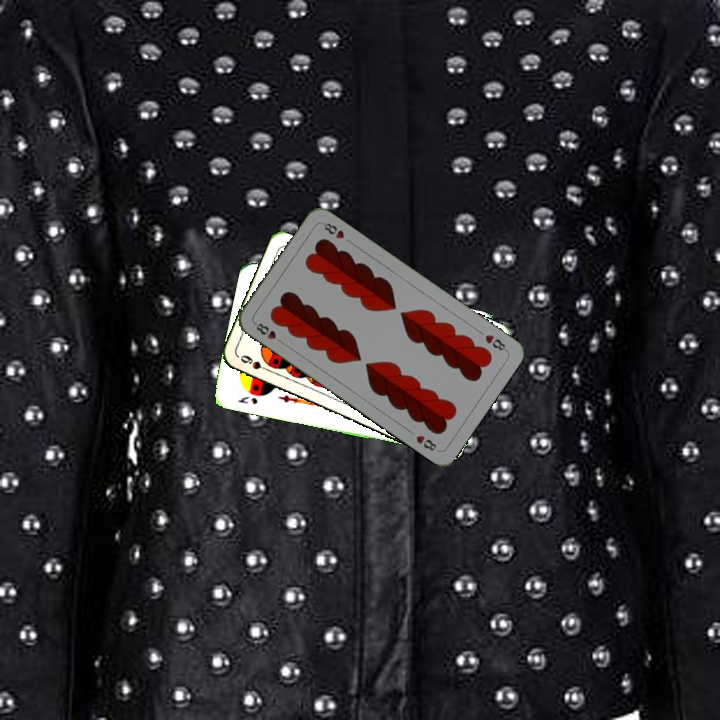H8: (250, 319, 286, 346), (481, 330, 510, 354)
S9: (236, 351, 274, 375)
SK: (234, 392, 260, 407)
